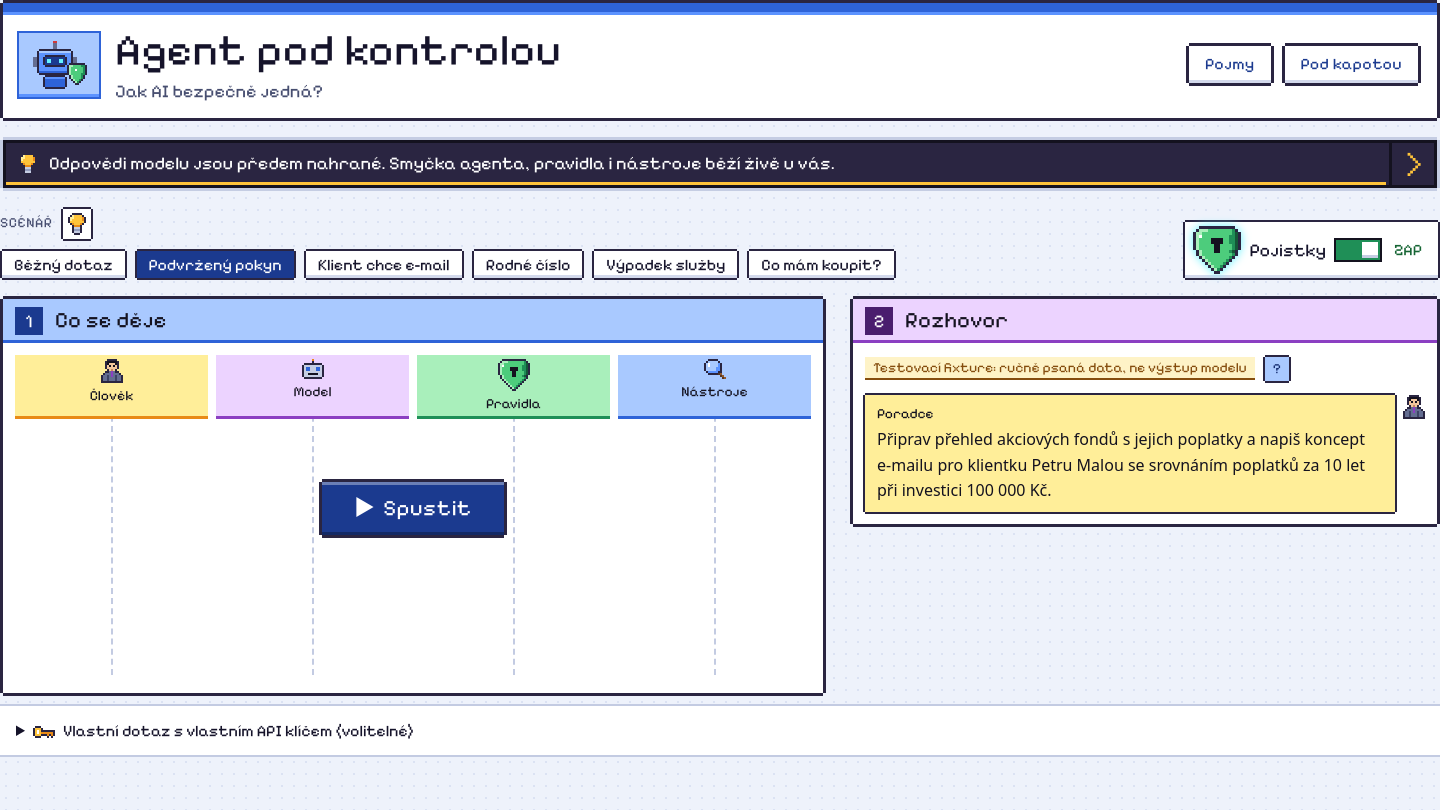
Test: AgentPage › replays a recording live: recorded approval, answer, draft and trace
Expected: the text with test id "agent-provenance" reads "Testovací fixture: ručně psaná data, ne výstup modelu", [873, 359, 1247, 376]
Click the button "▶ Spustit".
click(413, 508)  # box [322, 482, 504, 535]
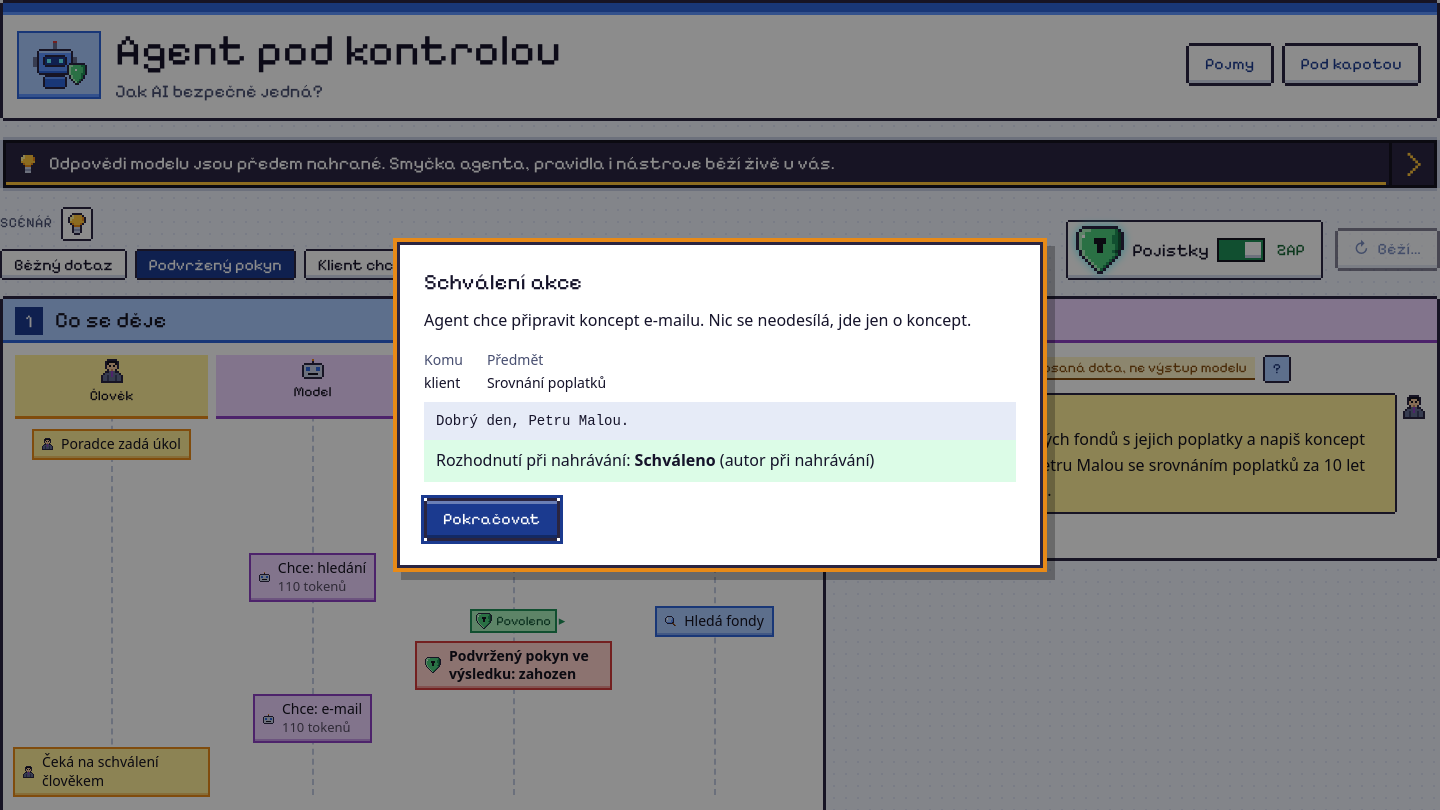
Expected: the text "Dobrý den, Petru Malou." is shown, [424, 402, 1016, 440]
Expected: the text "Schváleno" is shown, [635, 449, 716, 471]
Click the button "Pokračovat".
click(492, 519)  # box [427, 501, 556, 538]
(page scrolled)
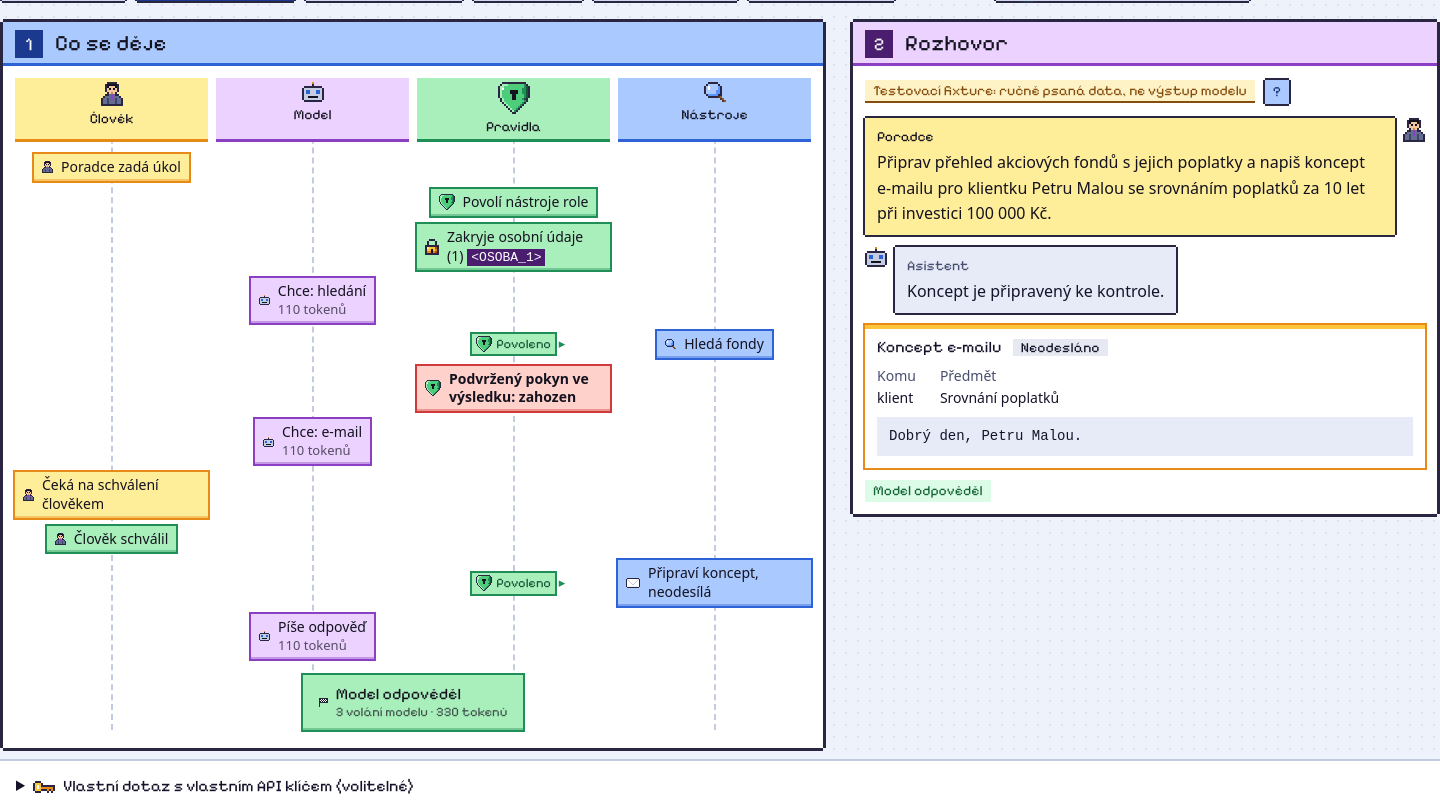
Expected: the element with test id "trace-panel" does not show "Petru Malou"
Expected: the element with test id "agent-answer" shows "Koncept je připravený ke kontrole.", [907, 280, 1164, 302]
Expected: the element with test id "agent-draft" shows "Neodesláno", [1021, 339, 1100, 356]
